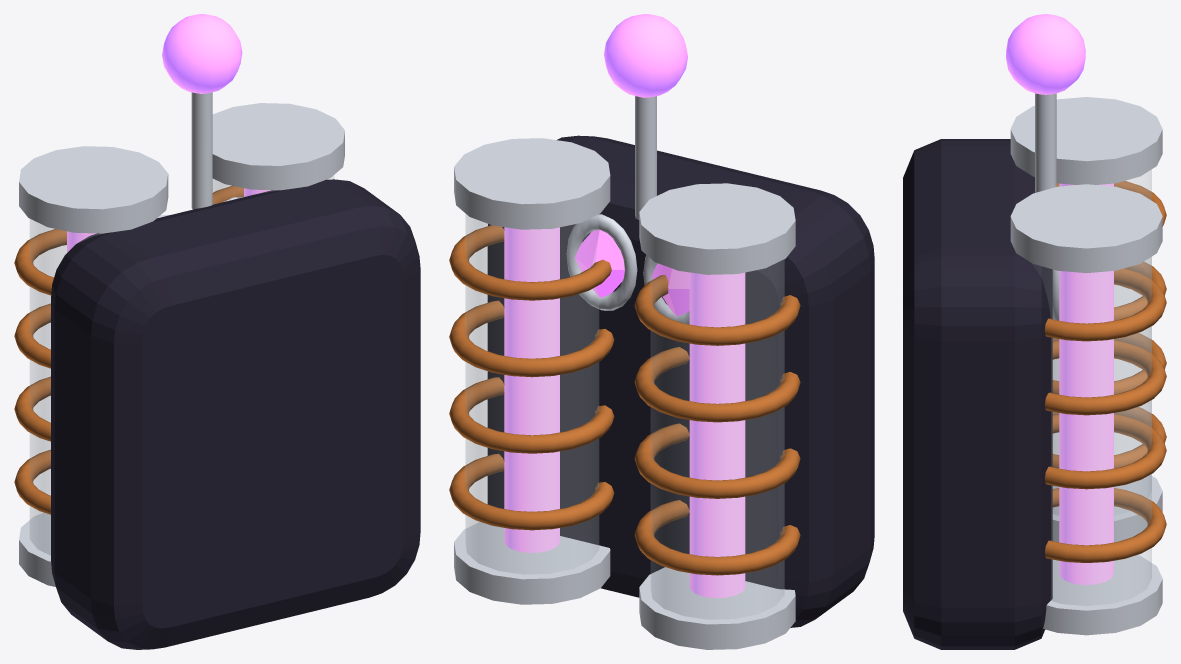
The model's file is back_eqgw2.glb.
3 renders of one model, left to right at view 1: azimuth 30°, elevation 25°; view 2: azimuth 150°, elevation 25°; view 3: azimuth 270°, elevation 25°, orthographic. The views are drawn at different scales.
Bounding box in the file's own units: 1.4 × 2.33 × 0.97.
